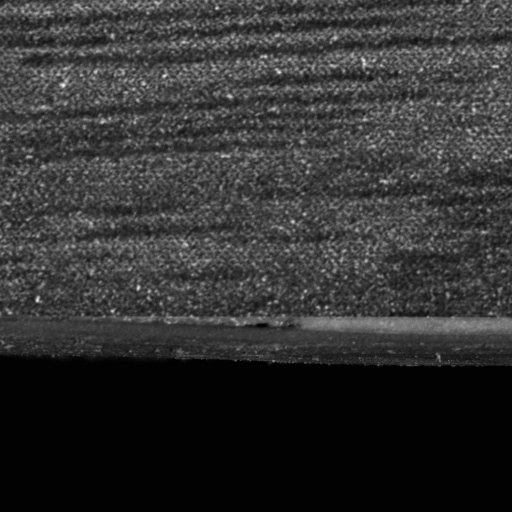kaijiao: (203, 315, 511, 374)
